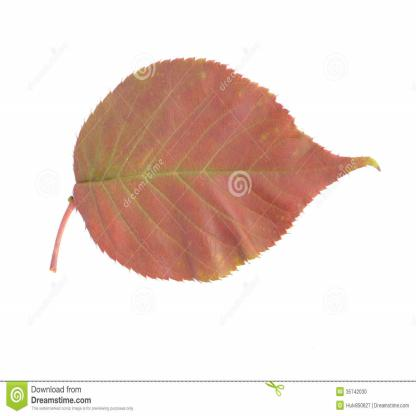cherry leaf: (66, 52, 400, 282)
